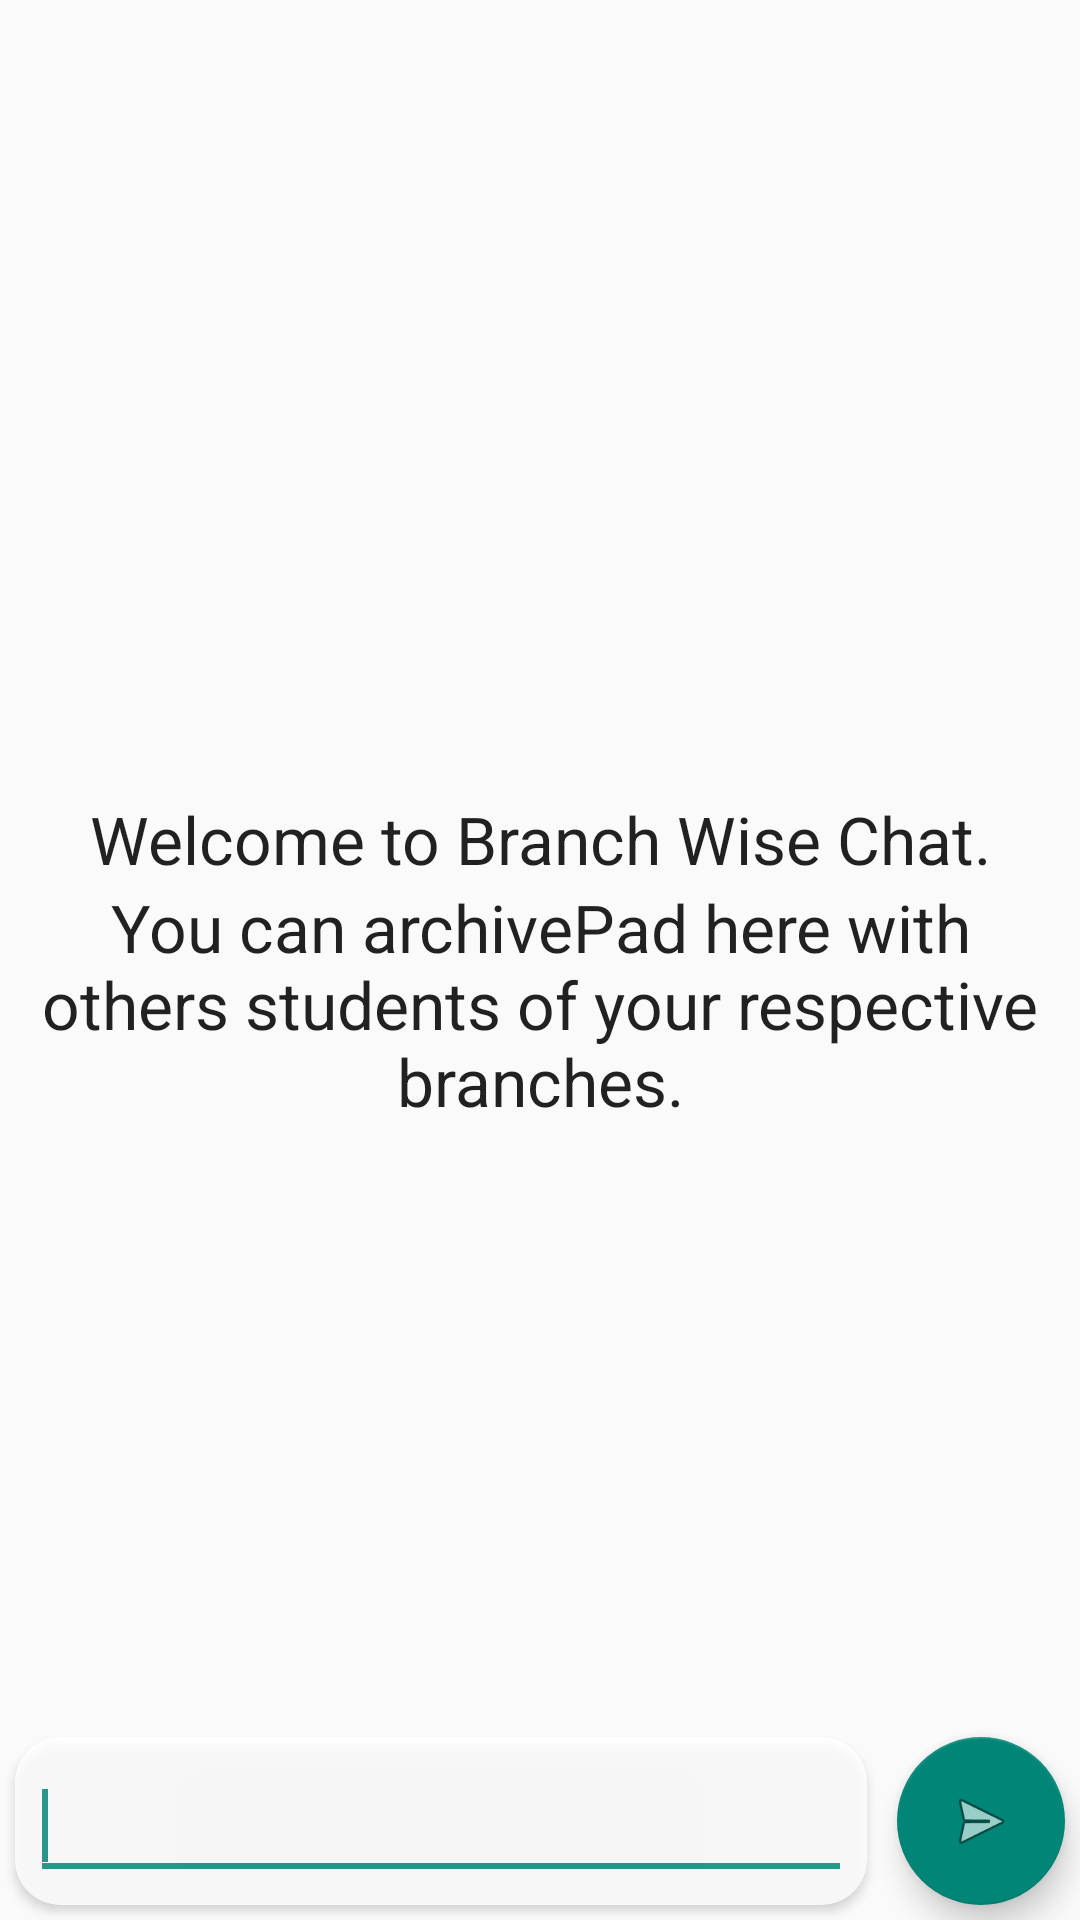

Screen size 1080*1920. Icon name, then its box in pixels as (x1, y1, x2, y2):
send: (897, 1737, 1065, 1905)
